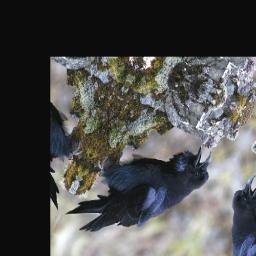Crow: (60, 102, 221, 256)
